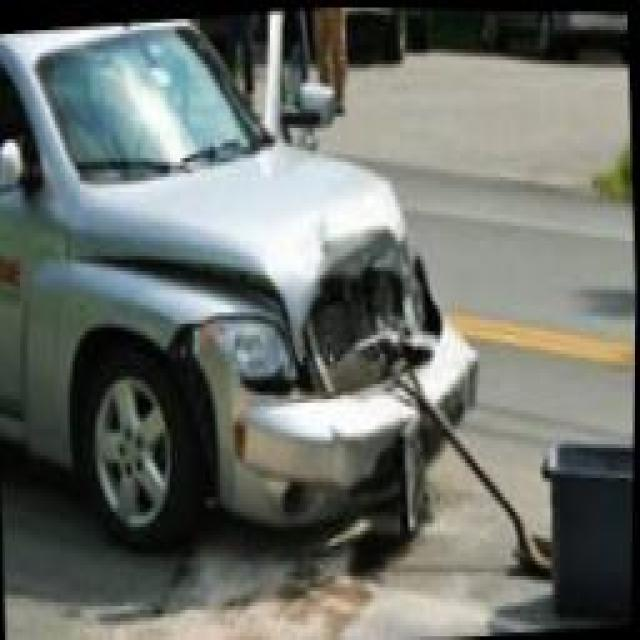Bonnet: (85, 140, 416, 364)
Bumper: (204, 313, 479, 520)
